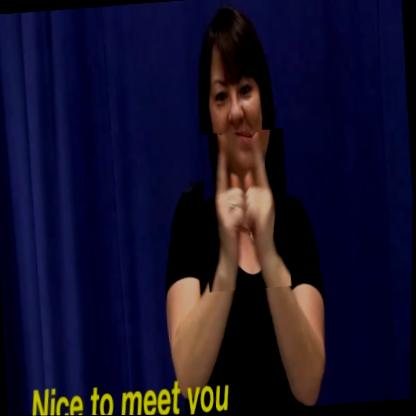NiceToMeetYou: (200, 129, 294, 292)
